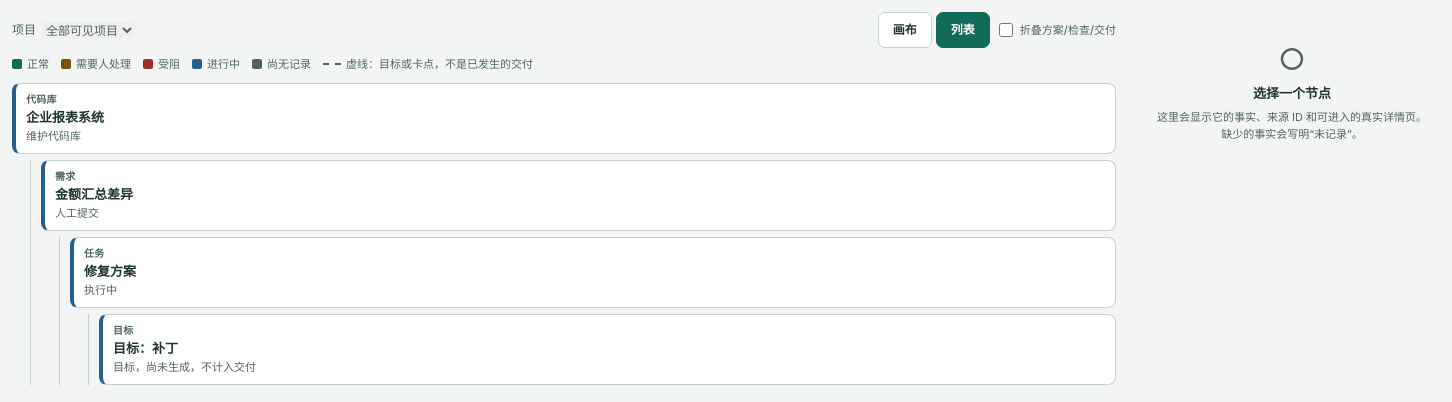
Test: RelationCanvas 工作画布 › 列表视图提供同一份投影，不靠拖拽也能选中
Click the button "任务 修复方案 执行中" at (110, 270), box top-left (70, 236), bottom-right (1116, 308)
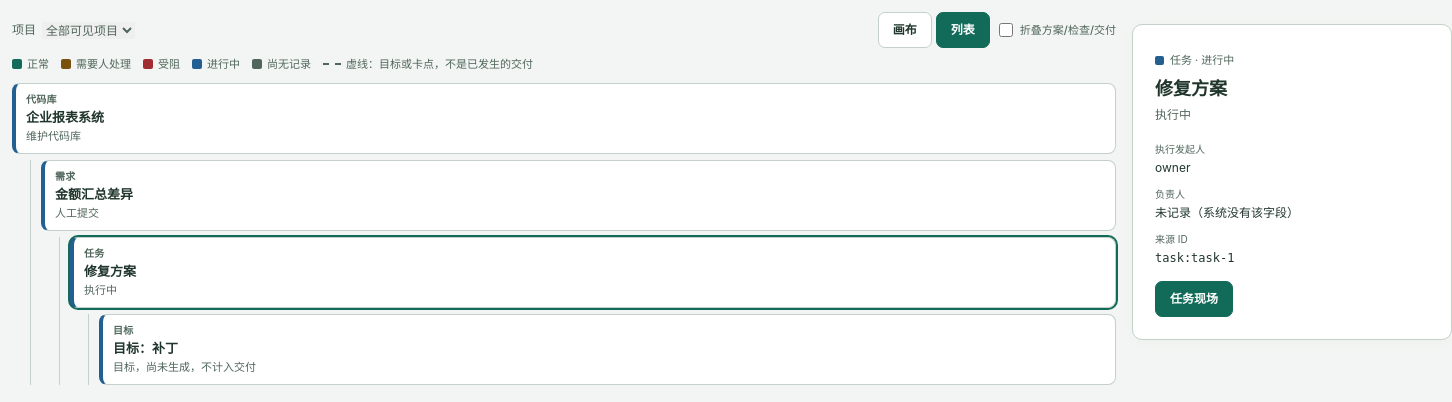
Check: the link "任务现场" is shown, box top-left (1155, 281), bottom-right (1233, 317)
